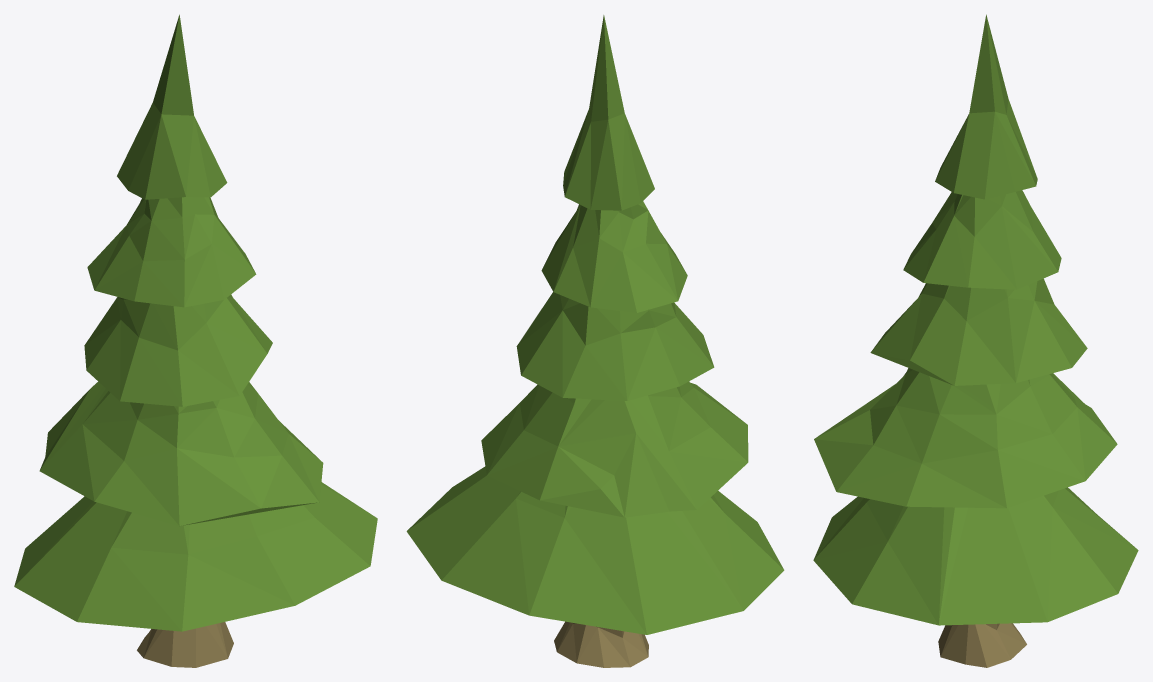
The model's file is LowPoly - FirTree B Roots.fbx.
3 views of the same model, side by side, from view 1: azimuth 30°, elevation 25°; view 2: azimuth 150°, elevation 25°; view 3: azimuth 270°, elevation 25° (orthographic).
Visible parts, largest first — view 1: TreeB_5, TreeB_4, TreeB_3, TreeB_2, TreeB_1, TreeB_6; view 2: TreeB_5, TreeB_4, TreeB_3, TreeB_2, TreeB_1, TreeB_6; view 3: TreeB_5, TreeB_4, TreeB_3, TreeB_2, TreeB_1, TreeB_6.
Boxes of the visible parts, x1,y1,x2,y2 form: TreeB_5: [14, 482, 377, 631]; TreeB_4: [39, 381, 323, 526]; TreeB_3: [84, 294, 272, 406]; TreeB_2: [87, 197, 256, 307]; TreeB_1: [117, 14, 227, 199]; TreeB_6: [137, 622, 233, 667]; TreeB_5: [406, 466, 784, 634]; TreeB_4: [481, 381, 748, 517]; TreeB_3: [516, 292, 714, 400]; TreeB_2: [541, 201, 687, 312]; TreeB_1: [563, 15, 654, 210]; TreeB_6: [554, 621, 648, 667]; TreeB_5: [813, 487, 1138, 625]; TreeB_4: [814, 368, 1117, 508]; TreeB_3: [870, 278, 1087, 385]; TreeB_2: [903, 190, 1061, 289]; TreeB_1: [935, 14, 1037, 199]; TreeB_6: [938, 623, 1026, 667].
Bounding box in the file's own units: 366 × 679 × 317.
